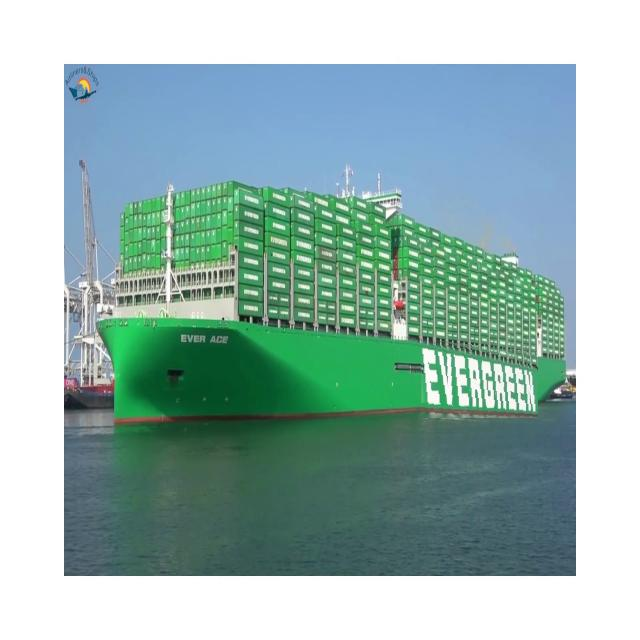OCR: (413, 338, 538, 418)
